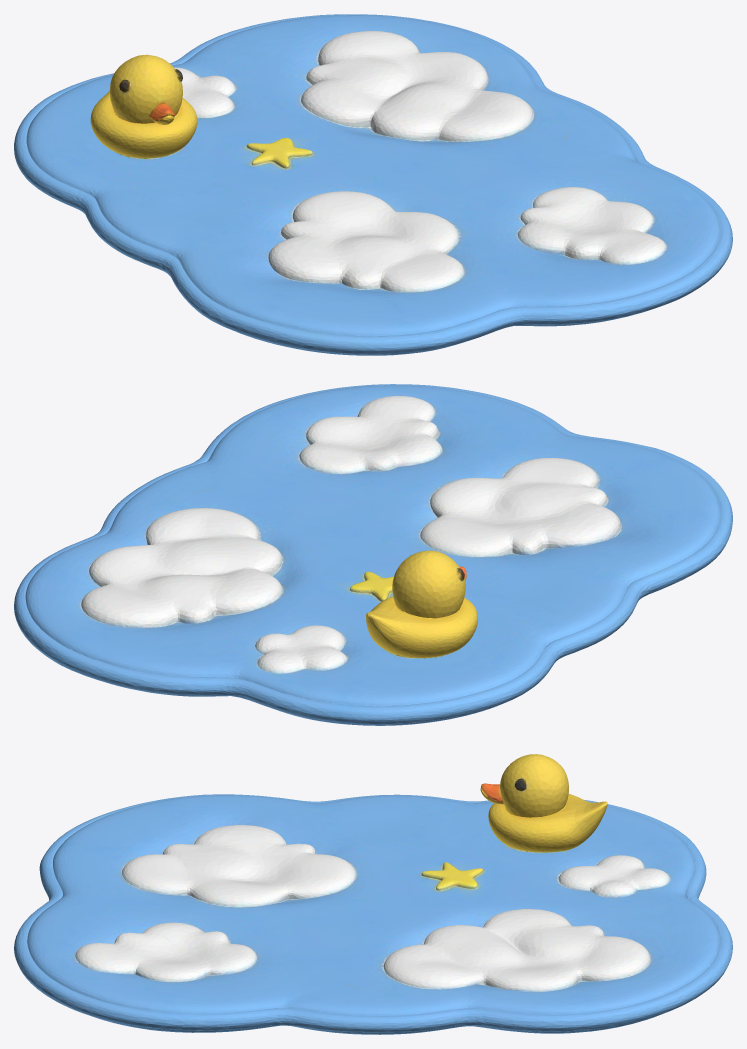
3 renders of one model, top to bottom at view 1: azimuth 30°, elevation 25°; view 2: azimuth 150°, elevation 25°; view 3: azimuth 270°, elevation 25°, orthographic. The views are drawn at different scales.
Parts seen in each view (by area): view 1: tripo_node_7ffbc922-8e40-4eff-8ff7-336157135467; view 2: tripo_node_7ffbc922-8e40-4eff-8ff7-336157135467; view 3: tripo_node_7ffbc922-8e40-4eff-8ff7-336157135467.
Boxes of the visible parts, x1,y1,x2,y2 form: tripo_node_7ffbc922-8e40-4eff-8ff7-336157135467: (14,14,732,355); tripo_node_7ffbc922-8e40-4eff-8ff7-336157135467: (14,384,732,725); tripo_node_7ffbc922-8e40-4eff-8ff7-336157135467: (14,754,732,1034).
Bounding box in the file's own units: 0.7399 × 0.1799 × 0.9801.
1 material, 1 textured.
